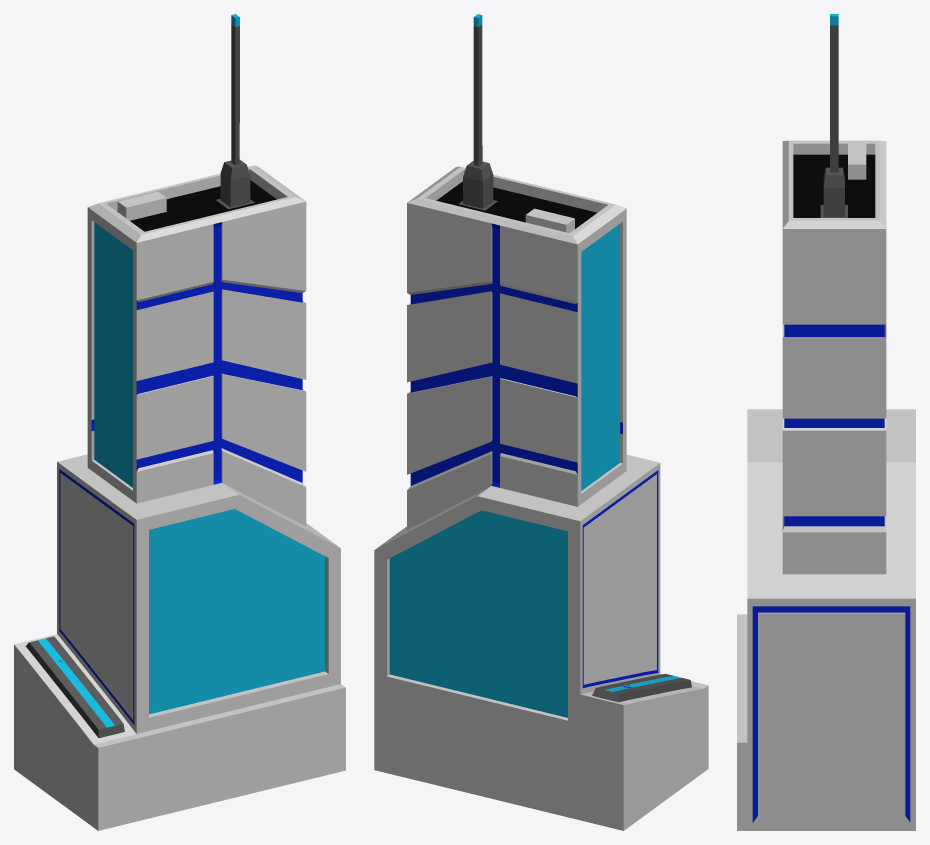
The model's file is Gedung2.fbx.
3 views of the same model, side by side, from view 1: azimuth 30°, elevation 25°; view 2: azimuth 150°, elevation 25°; view 3: azimuth 270°, elevation 25° (orthographic). The views are drawn at different scales.
Visible parts, largest first — view 1: Cube.001; view 2: Cube.001; view 3: Cube.001.
Part boxes in pixels (x1,y1,x2,y2): Cube.001: (14, 14, 345, 830); Cube.001: (374, 14, 708, 830); Cube.001: (737, 14, 915, 830).
Size of the model in its own units: 131 by 374 by 77.43.
